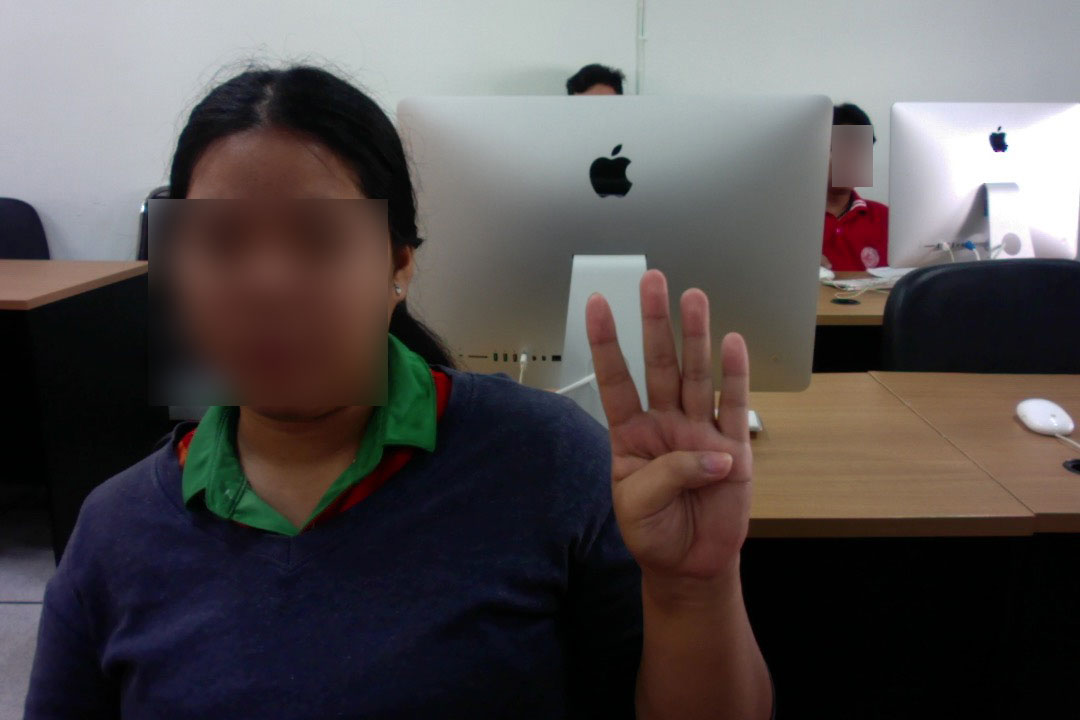bor: (578, 261, 761, 591)
